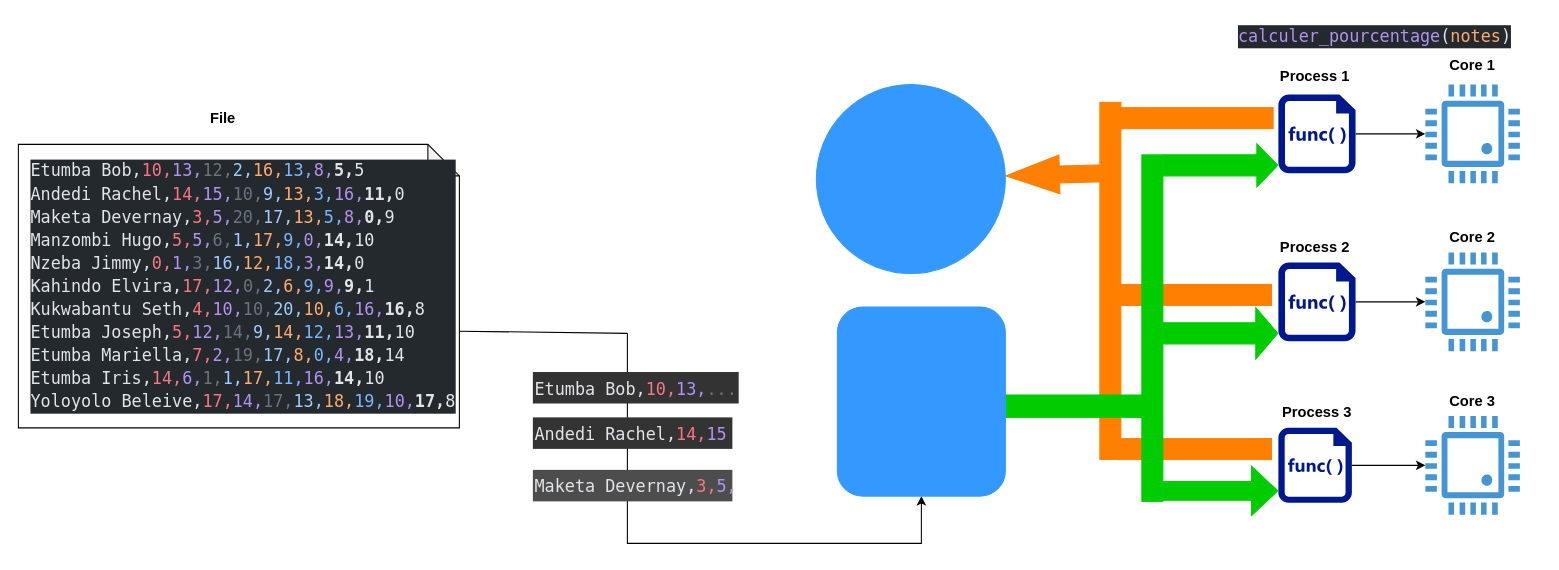
Image size: 1559x570. Some labels were removed from this diagram. The box of each missing label's shape, as (x1, y1, x2, y2) in pixels:
Process Pool: (836, 306, 1005, 496)
Results: (815, 83, 1005, 274)
